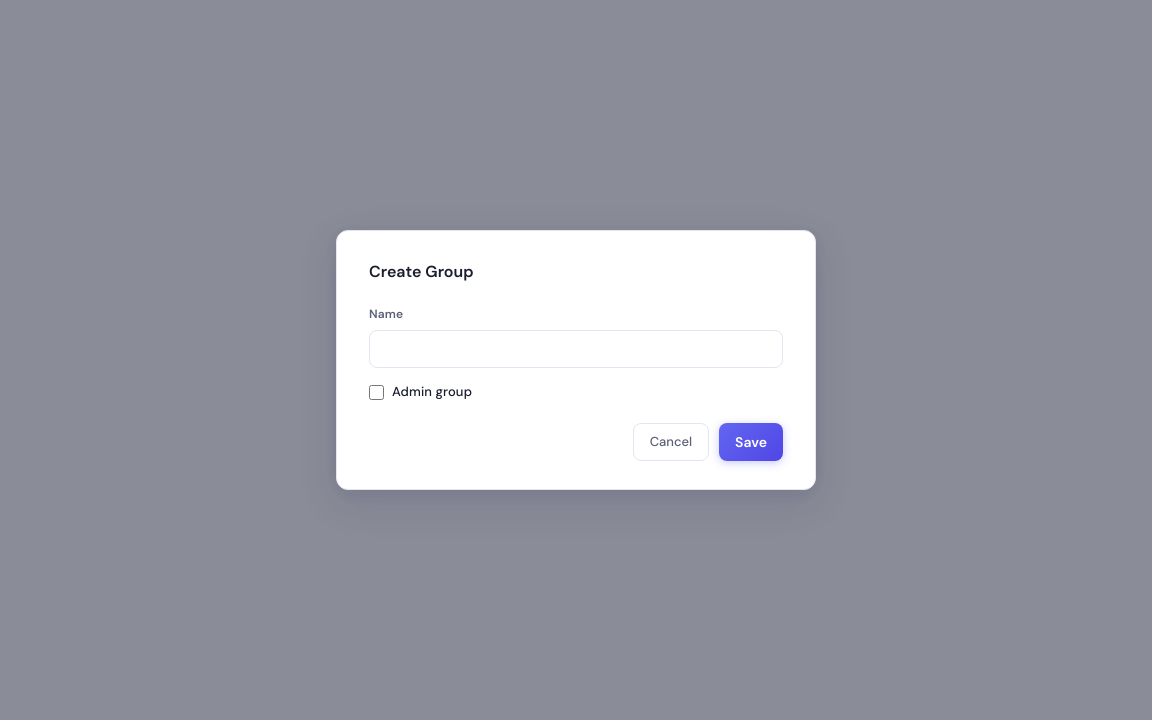
Scenario: GroupFormModal › shows inline error on API failure
The image size is (1152, 720).
Type "newgroup" into the field.
click(576, 349); type("newgroup")  # box [369, 330, 783, 368]
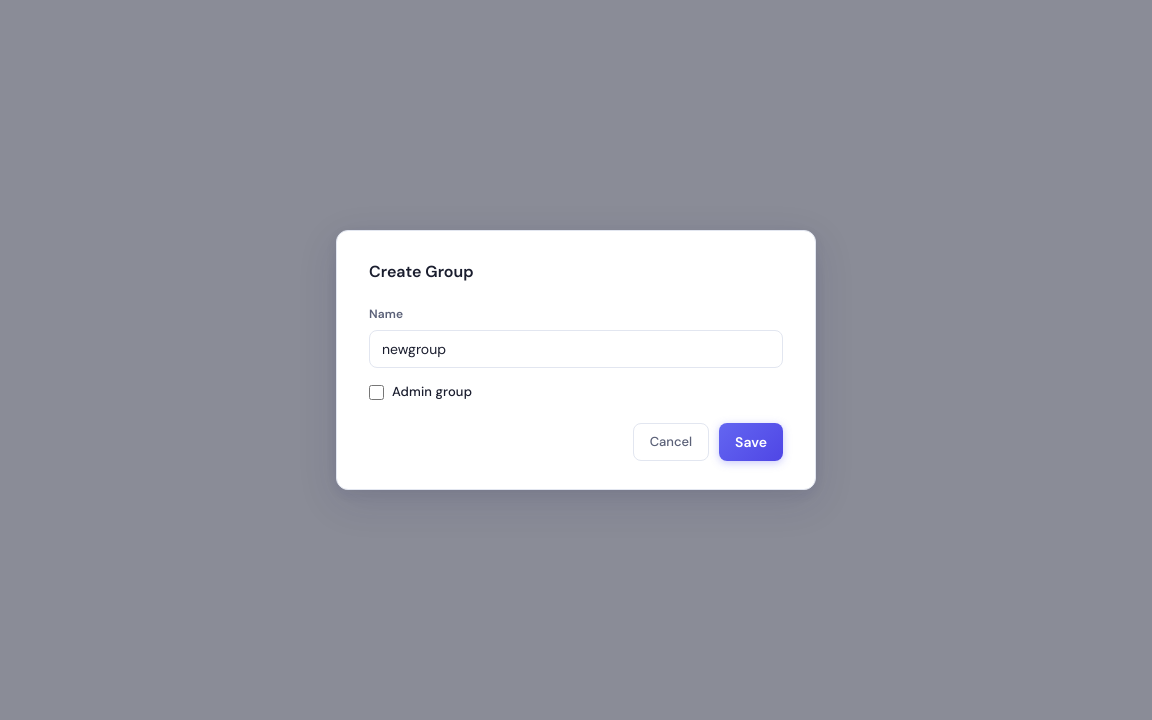
Submit the form, box [369, 305, 783, 461]
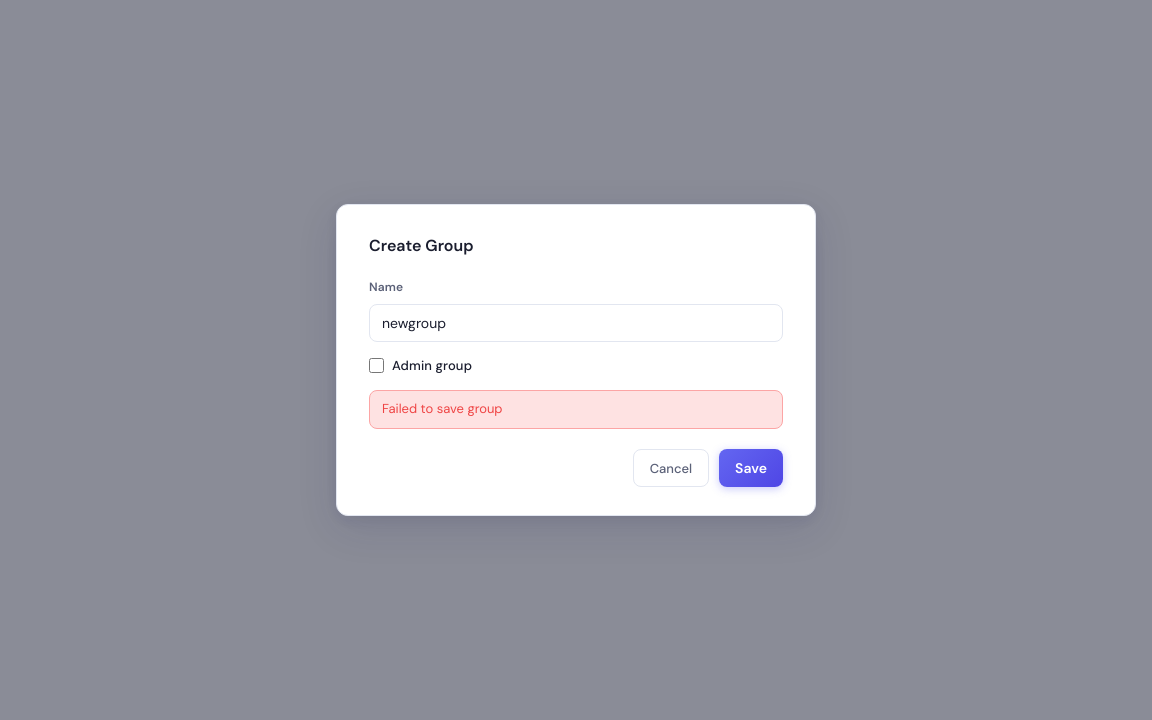
Expected: the text "Failed to save group" is shown, [369, 390, 783, 429]
